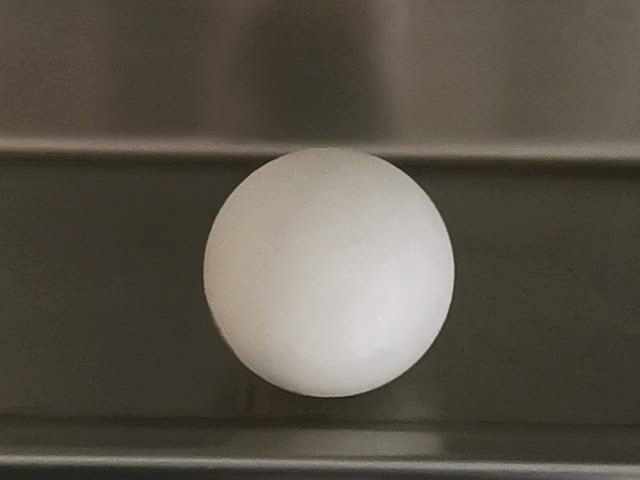ball: (203, 150, 458, 396)
